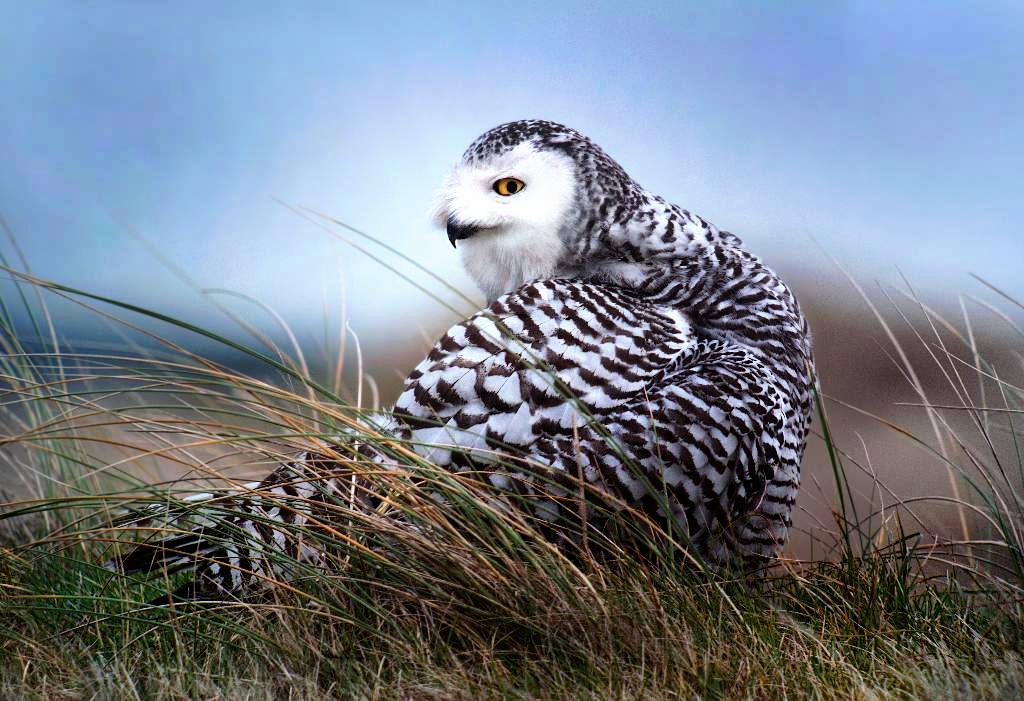Owl: (110, 116, 824, 629)
